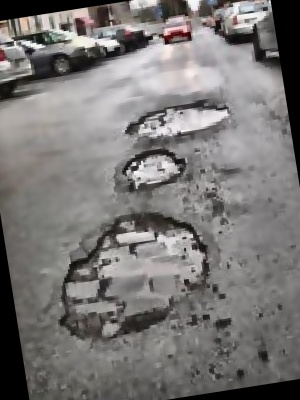pothole: (36, 198, 224, 354), (118, 94, 235, 144), (116, 146, 191, 194)
